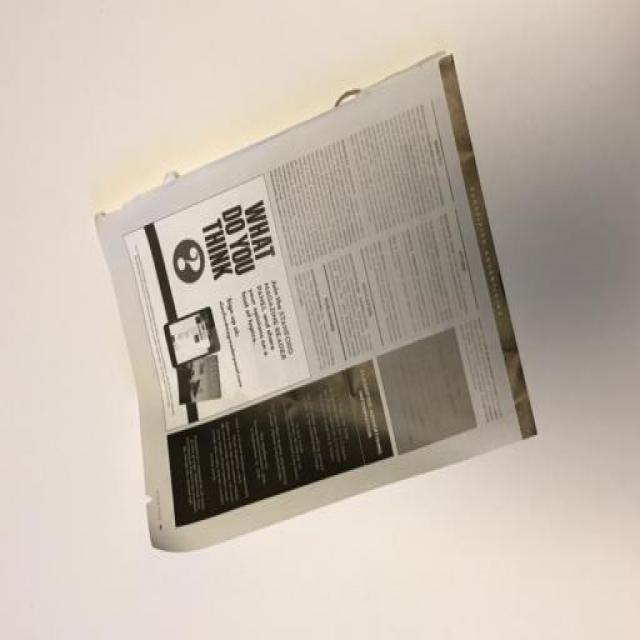paper: (64, 49, 524, 635)
